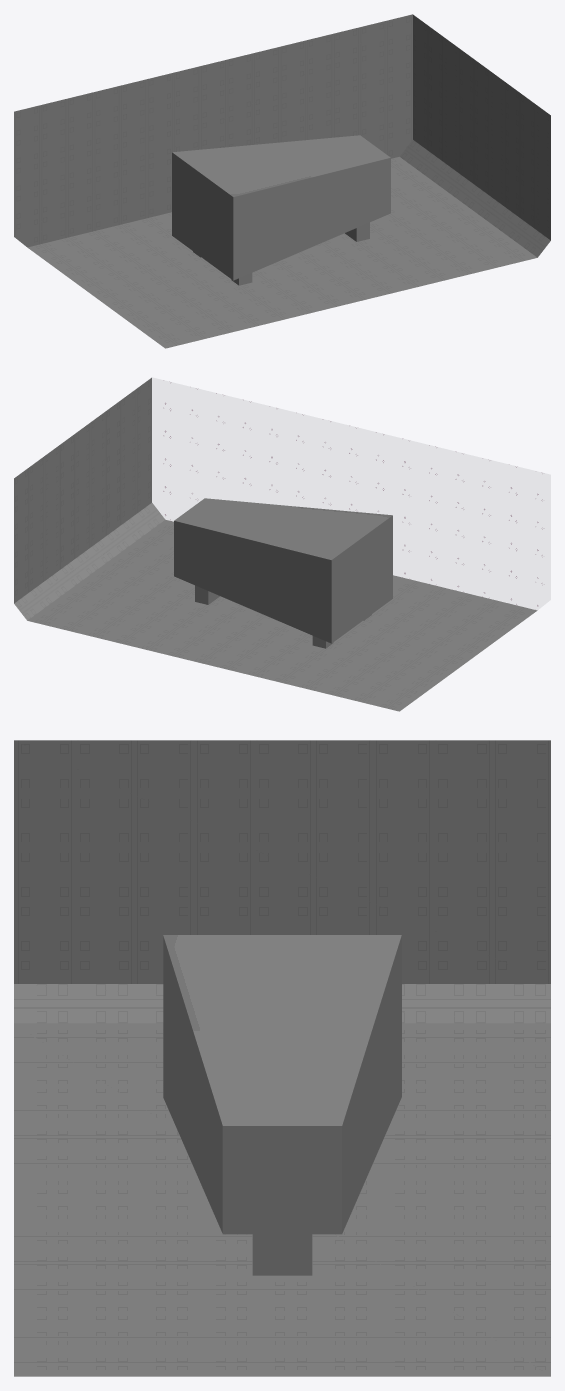
The model's file is hangar.glb.
3 views of the same model, one above another, from view 1: azimuth 30°, elevation 25°; view 2: azimuth 150°, elevation 25°; view 3: azimuth 270°, elevation 25° (orthographic). The views are drawn at different scales.
Visible parts, largest first — view 1: Cube, Cube.001, Cube.002; view 2: Cube, Cube.001, Cube.002; view 3: Cube, Cube.001, Cube.002.
Part boxes in pixels (box(x1,y1,x2,y2)): Cube: box(14, 14, 550, 348); Cube.001: box(172, 135, 390, 280); Cube.002: box(193, 222, 369, 285); Cube: box(14, 377, 544, 711); Cube.001: box(174, 498, 392, 643); Cube.002: box(195, 585, 371, 648); Cube: box(14, 740, 550, 1376); Cube.001: box(163, 935, 401, 1234); Cube.002: box(252, 1234, 312, 1275).
Size of the model in its own units: 30 by 10 by 18.
2 materials, 2 textured.
